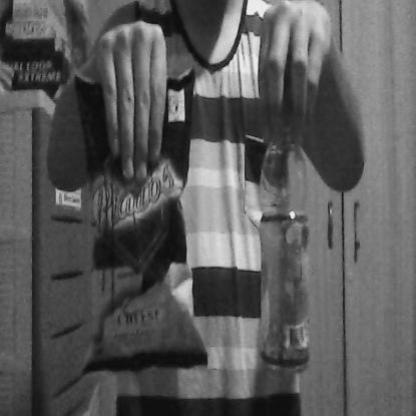Plastic Bottle: (254, 75, 316, 383)
